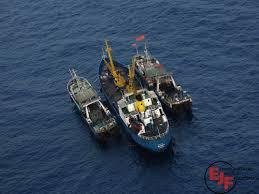Ship: (96, 49, 179, 157), (131, 40, 202, 124), (62, 59, 122, 139)
